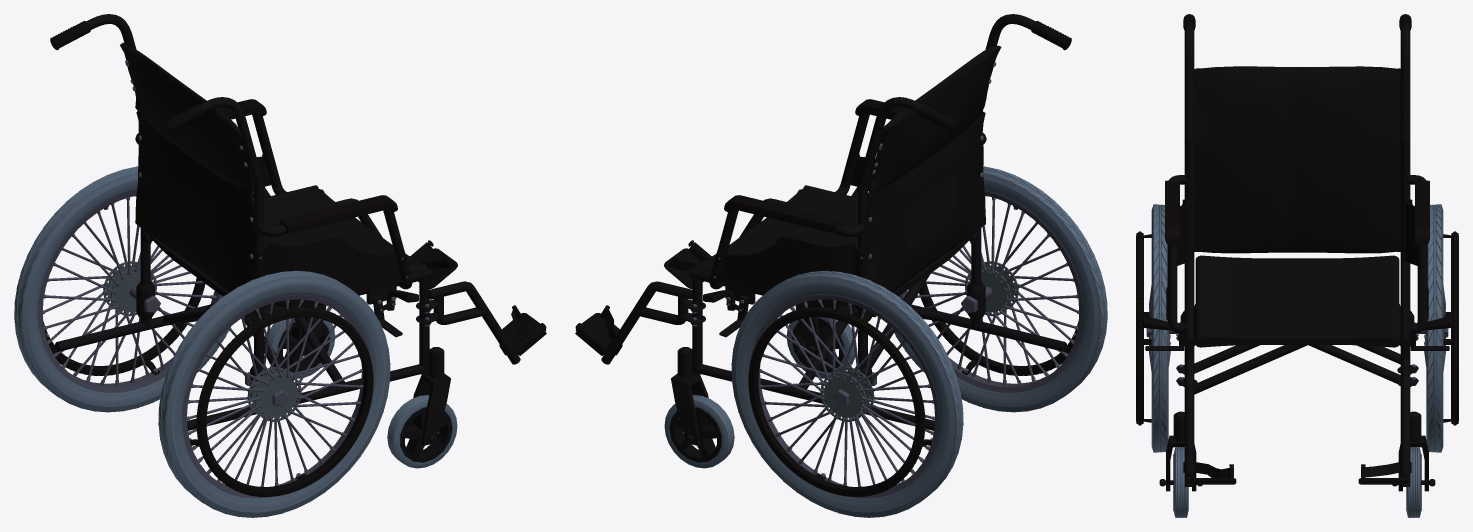
Rendered from Wheelchair.fbx.
3 views of the same model, side by side, from view 1: azimuth 30°, elevation 25°; view 2: azimuth 150°, elevation 25°; view 3: azimuth 270°, elevation 25° (orthographic). The views are drawn at different scales.
Visible parts, largest first — view 1: polySurface502_10, polySurface502_11, polySurface502_20, polySurface502_17, polySurface502_16, polySurface502_13, polySurface502_12, polySurface502_18, polySurface502_3, polySurface502_8, polySurface502_15, polySurface502_5 (+4 smaller); view 2: polySurface502_10, polySurface502_11, polySurface502_20, polySurface502_17, polySurface502_16, polySurface502_13, polySurface502_12, polySurface502_18, polySurface502_3, polySurface502_8, polySurface502_15, polySurface502_5 (+4 smaller); view 3: polySurface502_10, polySurface502_16, polySurface502_13, polySurface502_20, polySurface502_9, polySurface502_11, polySurface502_12, polySurface502_5, polySurface502_8, polySurface502_23, polySurface502_7, polySurface502_6 (+3 smaller).
Part boxes in pixels (left/top/right/bottom): polySurface502_10: left=120, top=42, right=521, bottom=355; polySurface502_11: left=14, top=167, right=456, bottom=517; polySurface502_20: left=43, top=21, right=546, bottom=496; polySurface502_17: left=38, top=60, right=430, bottom=498; polySurface502_16: left=51, top=14, right=543, bottom=462; polySurface502_13: left=14, top=166, right=428, bottom=512; polySurface502_12: left=18, top=170, right=457, bottom=516; polySurface502_18: left=42, top=64, right=395, bottom=486; polySurface502_3: left=154, top=100, right=516, bottom=336; polySurface502_8: left=43, top=26, right=418, bottom=496; polySurface502_15: left=55, top=113, right=546, bottom=457; polySurface502_5: left=53, top=25, right=403, bottom=496; polySurface502_10: left=600, top=45, right=1001, bottom=355; polySurface502_11: left=665, top=167, right=1107, bottom=517; polySurface502_20: left=575, top=21, right=1078, bottom=496; polySurface502_17: left=691, top=143, right=1083, bottom=498; polySurface502_16: left=578, top=14, right=1070, bottom=462; polySurface502_13: left=693, top=166, right=1107, bottom=512; polySurface502_12: left=664, top=169, right=1103, bottom=516; polySurface502_18: left=726, top=62, right=1079, bottom=486; polySurface502_3: left=606, top=100, right=967, bottom=338; polySurface502_8: left=703, top=26, right=1078, bottom=496; polySurface502_15: left=575, top=113, right=1066, bottom=457; polySurface502_5: left=718, top=25, right=1068, bottom=496; polySurface502_10: left=1183, top=66, right=1411, bottom=477; polySurface502_16: left=1146, top=22, right=1448, bottom=511; polySurface502_13: left=1153, top=204, right=1441, bottom=517; polySurface502_20: left=1136, top=14, right=1458, bottom=484; polySurface502_9: left=1194, top=68, right=1400, bottom=472; polySurface502_11: left=1151, top=204, right=1443, bottom=517; polySurface502_12: left=1153, top=204, right=1441, bottom=517; polySurface502_5: left=1138, top=19, right=1456, bottom=423; polySurface502_8: left=1138, top=14, right=1456, bottom=425; polySurface502_23: left=1166, top=256, right=1428, bottom=491; polySurface502_7: left=1145, top=312, right=1449, bottom=486; polySurface502_6: left=1182, top=262, right=1412, bottom=341.
Size of the model in its own units: 6.92 by 6.79 by 5.05.
